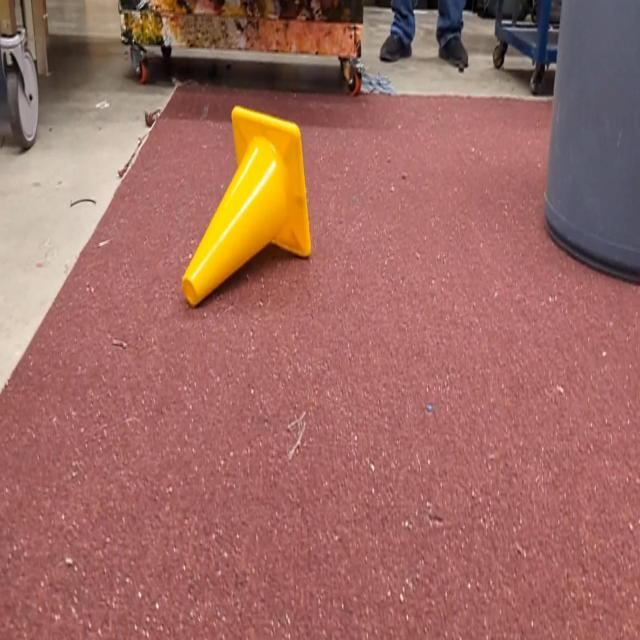frc_cone: (182, 107, 312, 307)
